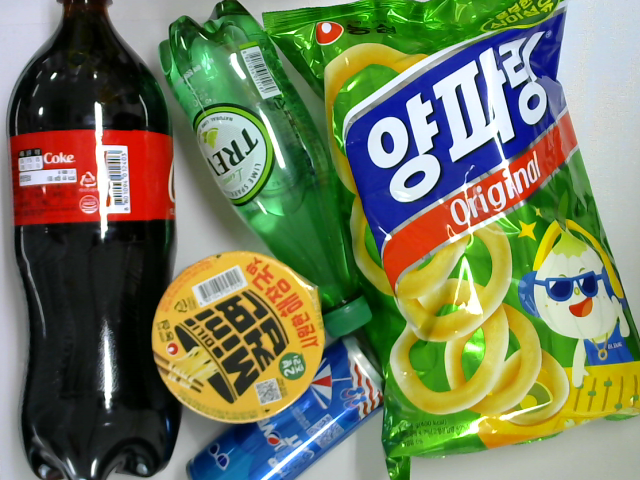Coca_Cola_1.5L: (7, 1, 179, 480)
Hejangmini: (150, 252, 330, 423)
Oninon_Ring: (263, 1, 640, 480)
Pepsi_Cola_Can_250ml: (184, 334, 388, 480)
Treviraim_500ml: (159, 1, 376, 339)
